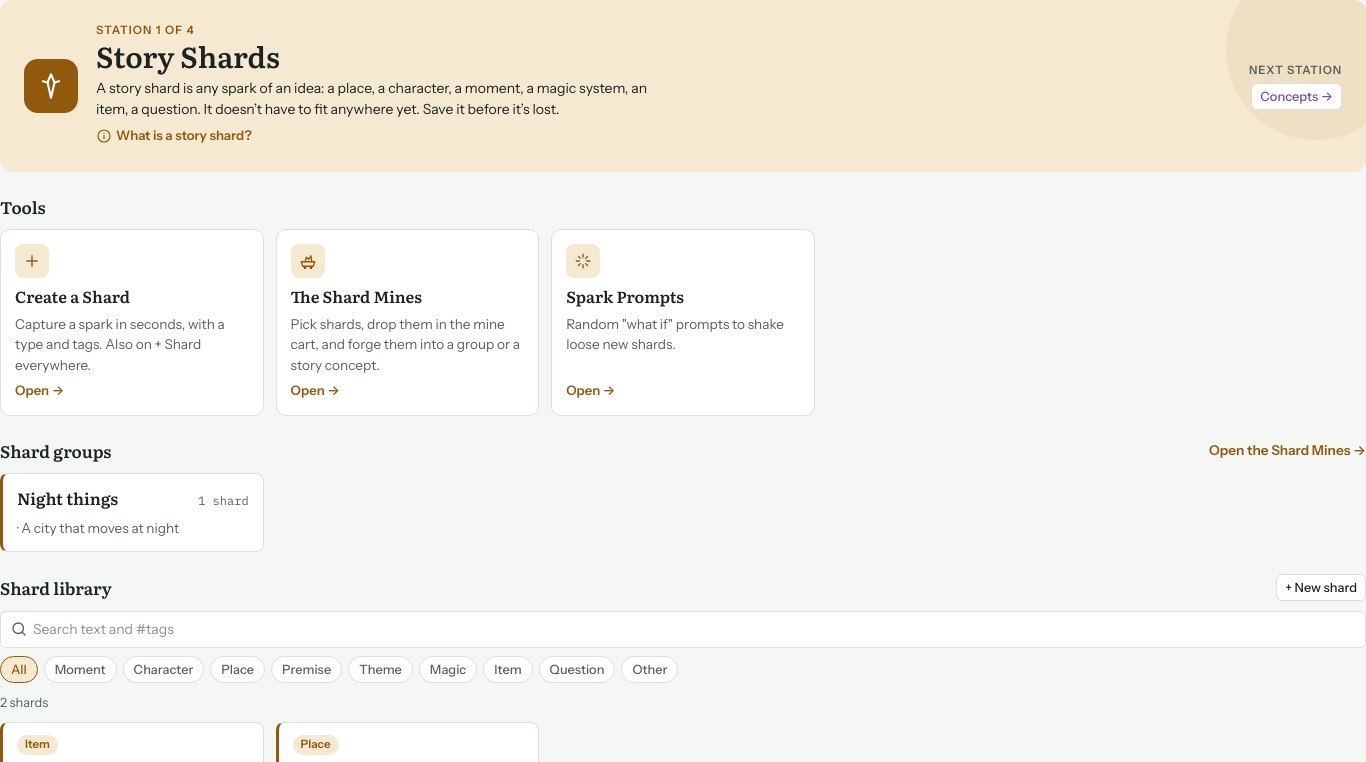
Test: ShardsStationPage › captures a new shard from the Create a Shard tool
Step 1. Click the button "Create a Shard" → (132, 322), box [0, 229, 264, 416]
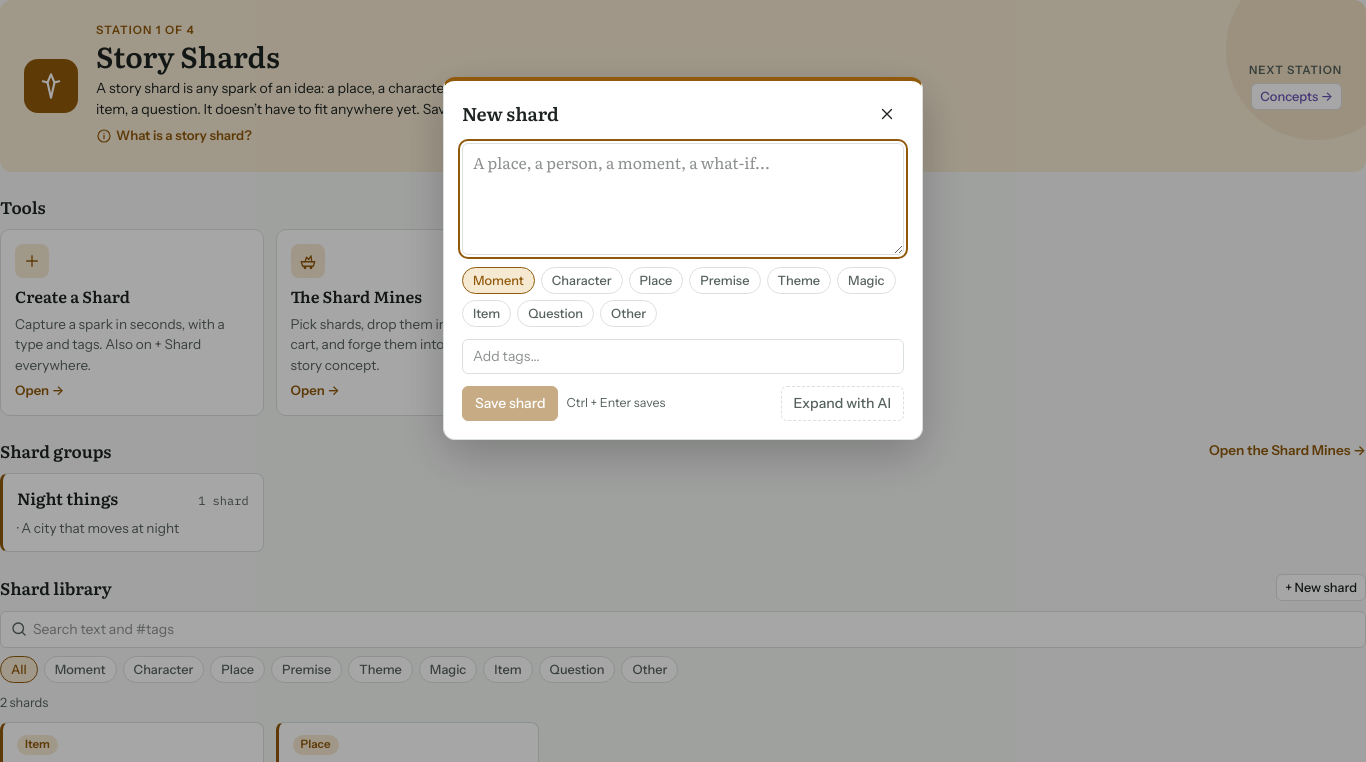
Step 2. Type "A key" into the text box named "Shard text" → (683, 199), box [462, 143, 904, 255]
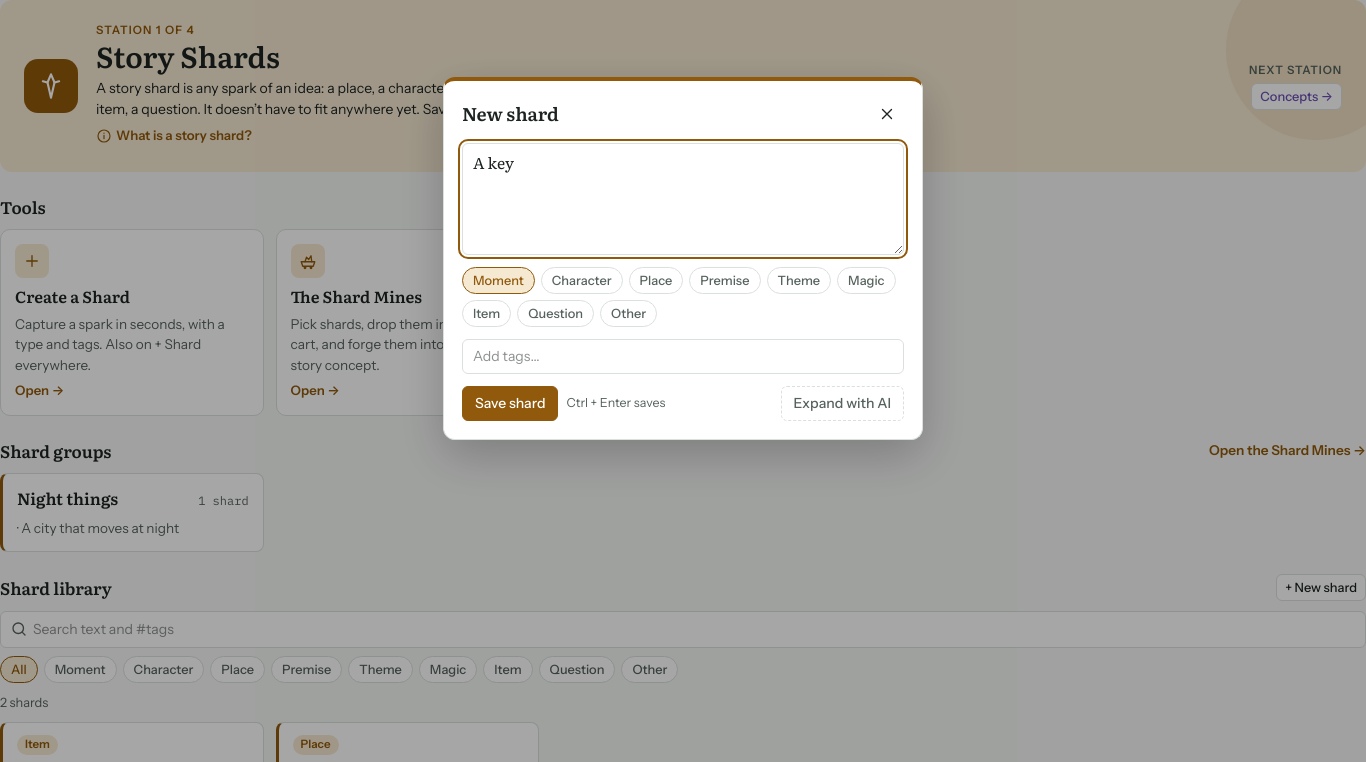
Step 3. Click the button "Item" → (487, 314), box [462, 300, 511, 327]
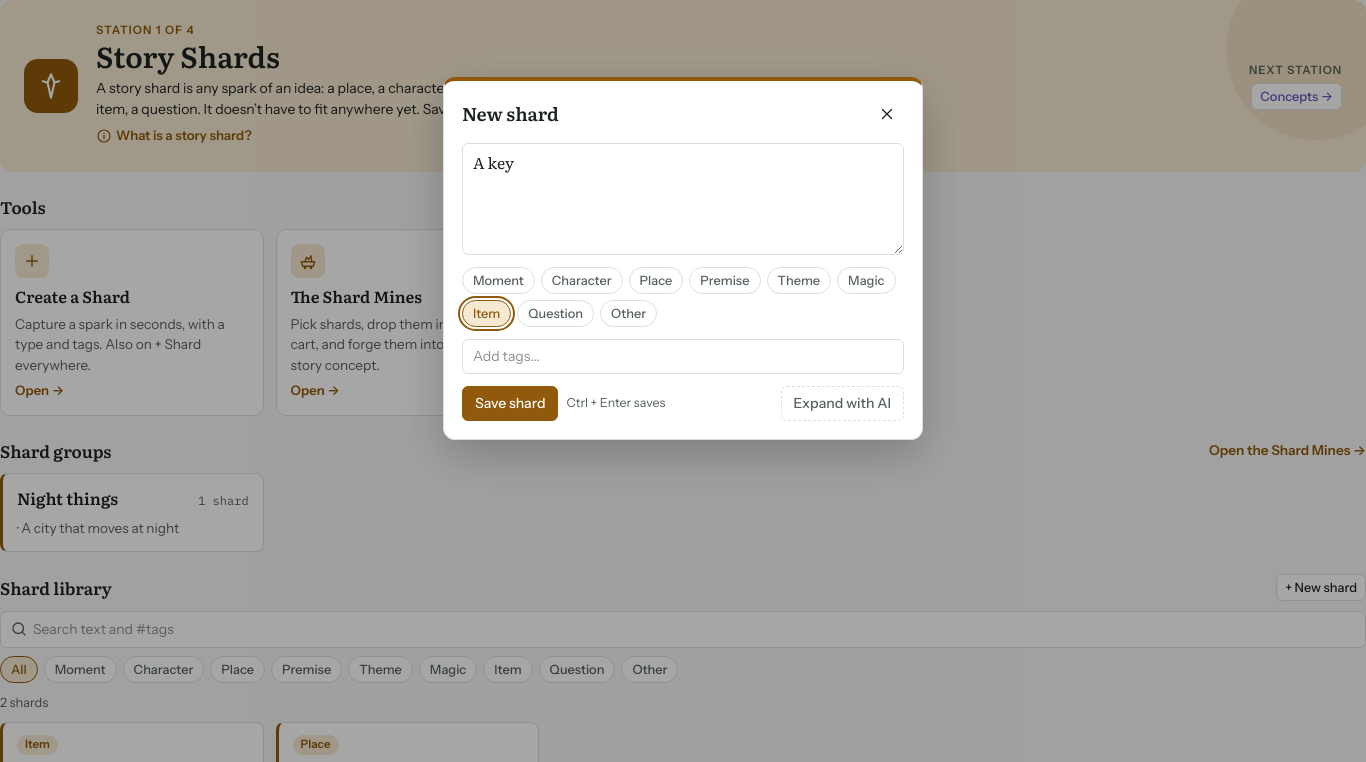
Step 4. Click the button "Save shard" → (510, 404), box [462, 386, 558, 421]
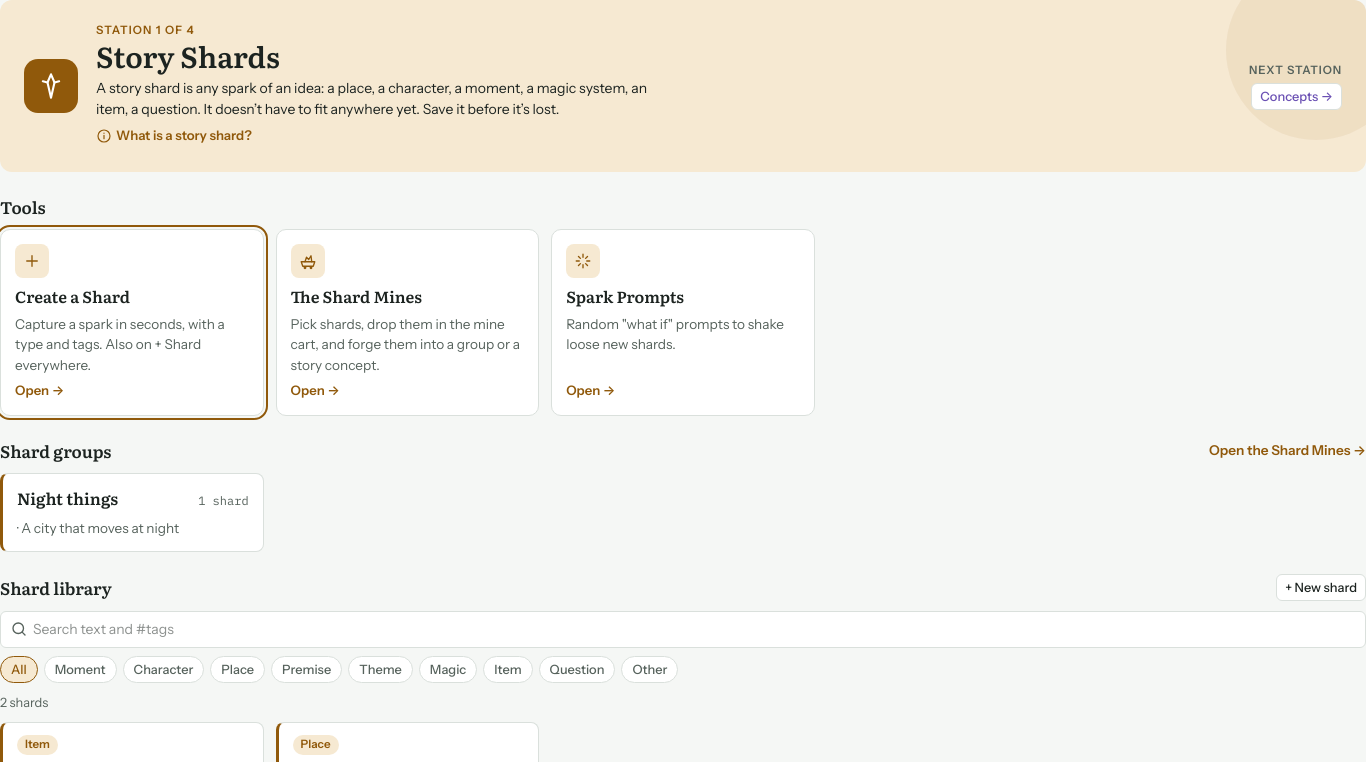
Check: the dialog is gone
